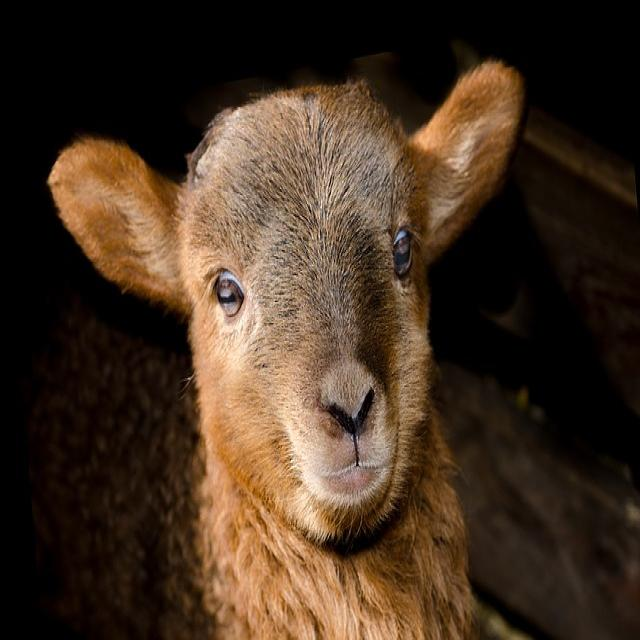goat: (49, 61, 524, 637)
